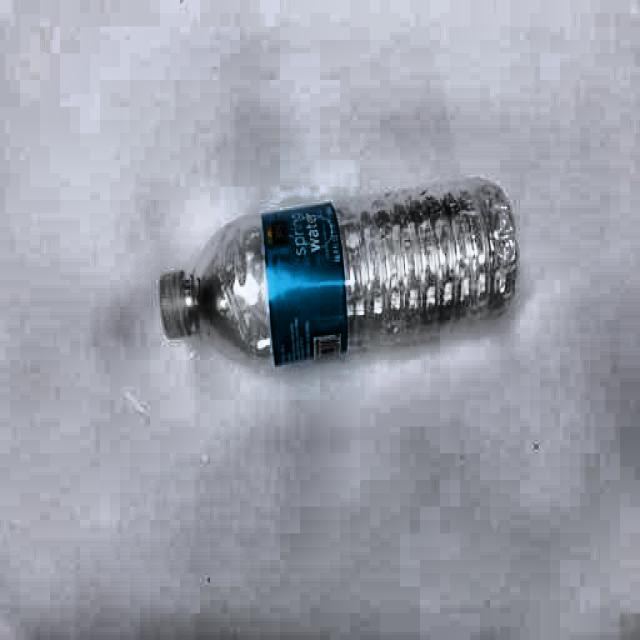plastic: (159, 177, 519, 372)
